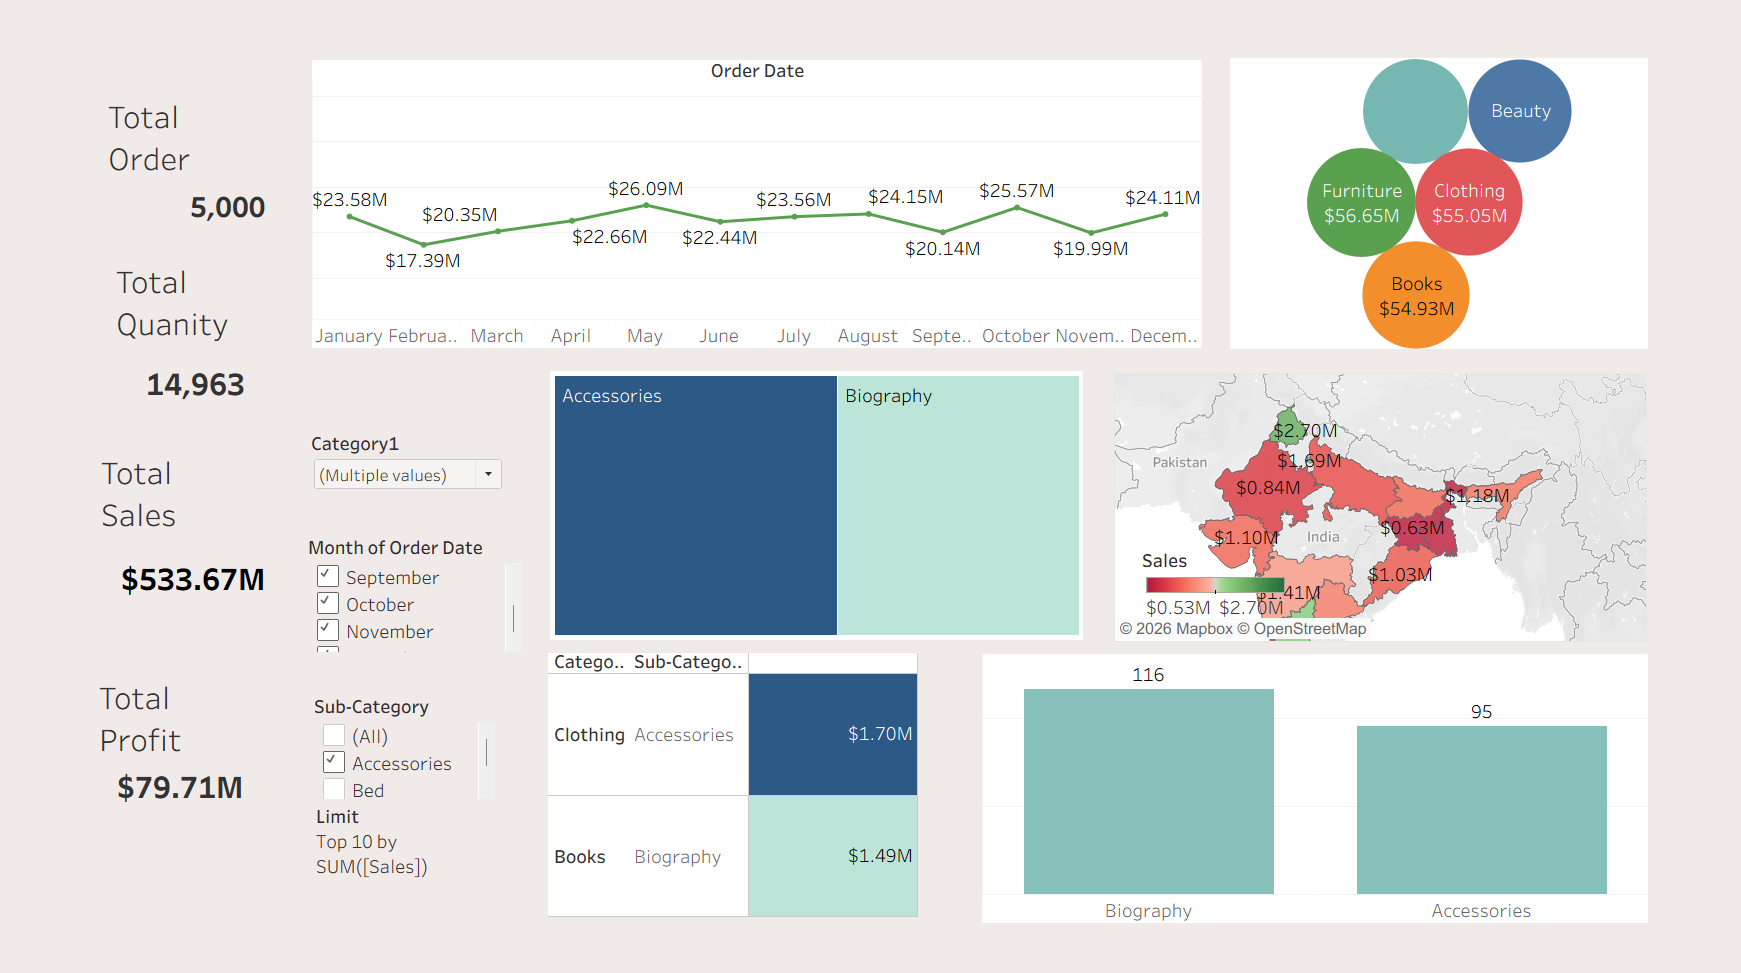

What the dashboard file says about the page in this screenshot:
{"tool":"tableau","page":{"name":"E-Commerce Dashboard","canvas":[1600,900],"ordinal":0},"visuals":[{"type":"worksheet","title":"Sales by Category","mark":"Circle","box":[1149,26,418,291]},{"type":"worksheet","title":"Monthly Sales Trend","mark":"Automatic","rows":["Sales"],"cols":["Order Date"],"box":[231,28,890,288]},{"type":"worksheet","title":"Total Orders","mark":"Automatic","box":[23,59,166,132]},{"type":"worksheet","title":"Total Quantity","mark":"Automatic","box":[31,224,137,155]},{"type":"worksheet","title":"Sales by Sub-Category","mark":"Automatic","box":[469,339,533,269]},{"type":"worksheet","title":"City-wise sales","mark":"Automatic","box":[1033,341,533,269]},{"type":"filter","title":"Category Vs Sub-Category","param":"[federated.1cue1dg0h9yr3z1ah3szj05s44wc].[none:Category:nk]","box":[230,398,194,96]},{"type":"worksheet","title":"Total Sales","mark":"Automatic","box":[16,415,173,163]},{"type":"filter","title":"Category Vs Sub-Category","param":"[federated.1cue1dg0h9yr3z1ah3szj05s44wc].[mn:Order Date:ok]","box":[227,502,214,118]},{"type":"legend","title":"City-wise sales","param":"[federated.1cue1dg0h9yr3z1ah3szj05s44wc].[sum:Sales:qk]","box":[1061,515,147,100]},{"type":"worksheet","title":"Profit by Category","mark":"Square","rows":["Category","Sub-Category"],"box":[467,621,370,264]},{"type":"worksheet","title":"Category Vs Sub-Category","mark":"Automatic","rows":["Order ID"],"cols":["Sub-Category"],"box":[901,622,666,269]},{"type":"worksheet","title":"Total Profit","mark":"Automatic","box":[14,640,153,131]},{"type":"filter","title":"Category Vs Sub-Category","param":"[federated.1cue1dg0h9yr3z1ah3szj05s44wc].[none:Sub-Category:nk]","box":[233,661,181,189]}]}

Visuals, with their boxes in screenshot pixels (x1, y1, x2, y2), scaled from the page's 1600x900 canvas onto the 1741x973 screenshot:
"Sales by Category" worksheet (Circle marks): box=[1250, 28, 1705, 343]
"Monthly Sales Trend" worksheet: box=[251, 30, 1220, 342]
"Total Orders" worksheet: box=[25, 64, 206, 206]
"Total Quantity" worksheet: box=[34, 242, 183, 410]
"Sales by Sub-Category" worksheet: box=[510, 366, 1090, 657]
"City-wise sales" worksheet: box=[1124, 369, 1704, 659]
"Category Vs Sub-Category" filter: box=[250, 430, 461, 534]
"Total Sales" worksheet: box=[17, 449, 206, 625]
"Category Vs Sub-Category" filter: box=[247, 543, 480, 670]
"City-wise sales" legend: box=[1155, 557, 1314, 665]
"Profit by Category" worksheet (Square marks): box=[508, 671, 911, 957]
"Category Vs Sub-Category" worksheet: box=[980, 672, 1705, 963]
"Total Profit" worksheet: box=[15, 692, 182, 834]
"Category Vs Sub-Category" filter: box=[254, 715, 450, 919]
